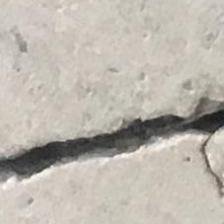Crack: (0, 90, 224, 209)
